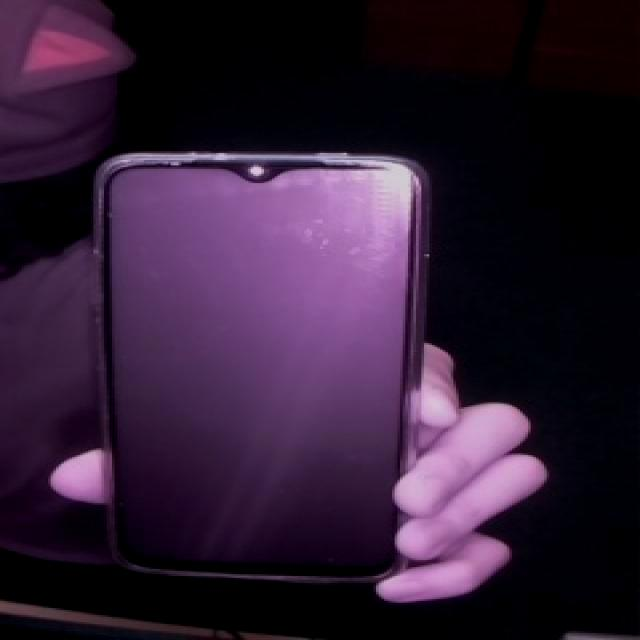phone: (85, 132, 455, 600)
